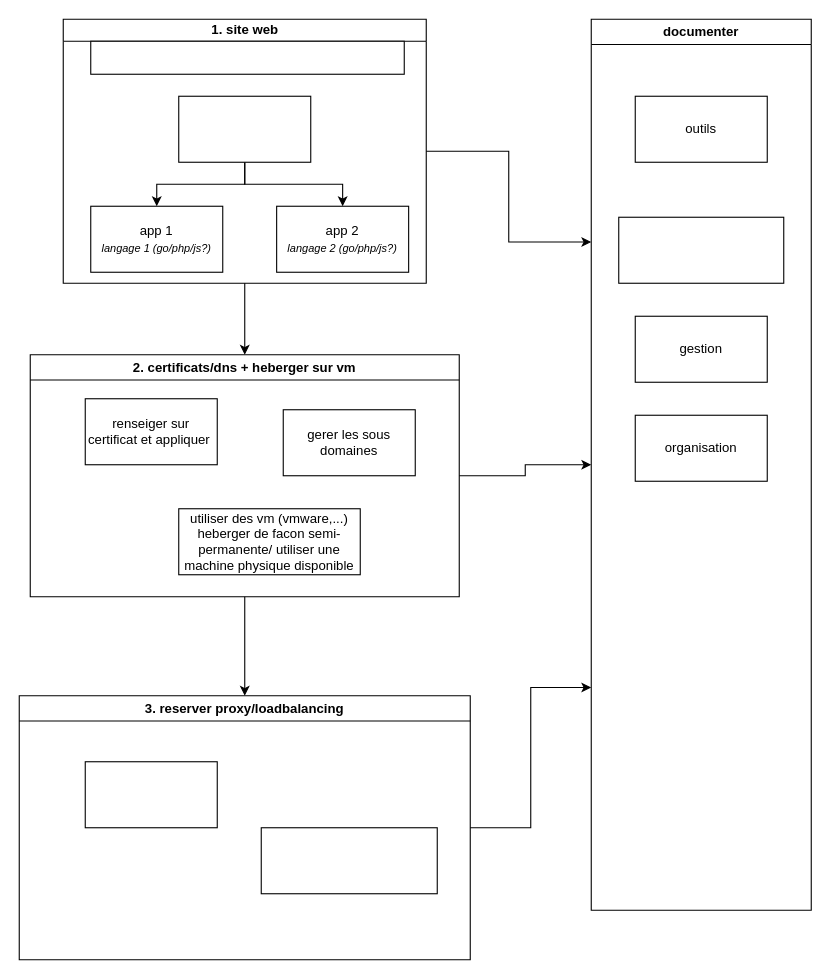
Some shapes in this 831 by 979 pixel diagram are drawn without their labels. The centre of each missing label's shape, as x and y in pixels:
"fonctionnement / fonctionnalitées" belongs at (x=701, y=249).
"gerer les avaries avec des redirections de serveur et partage de la charge" belongs at (x=348, y=860).
"liste d'app https://www.cloudron.io/store/index.html" belongs at (x=247, y=57).
"main page acces aux app" belongs at (x=244, y=128).
"mettre en place un/des proxy" belongs at (x=150, y=794).
